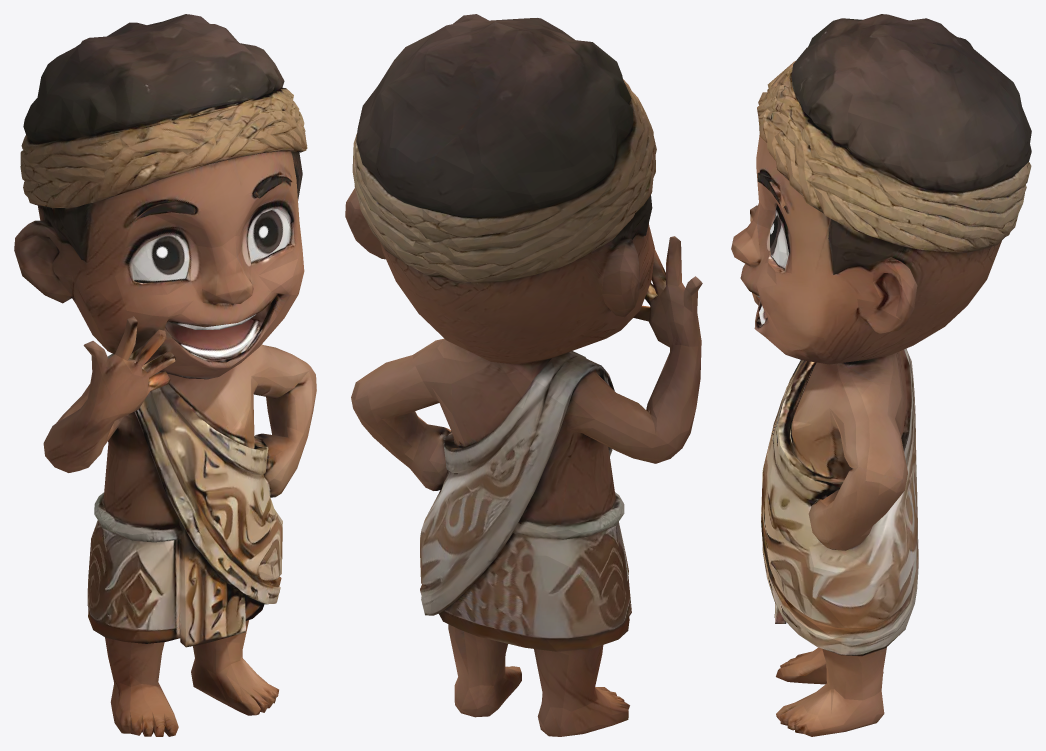
Rendered from Cowo.glb.
3 views of the same model, side by side, from view 1: azimuth 30°, elevation 25°; view 2: azimuth 150°, elevation 25°; view 3: azimuth 270°, elevation 25° (orthographic). The views are drawn at different scales.
Visible parts, largest first — view 1: model; view 2: model; view 3: model.
Boxes of the visible parts, left/top/right/bottom form: model: left=14, top=14, right=316, bottom=736; model: left=345, top=14, right=702, bottom=736; model: left=731, top=14, right=1031, bottom=736.
Bounding box in the file's own units: 0.8108 × 1.77 × 0.7198.
1 material, 1 textured.
